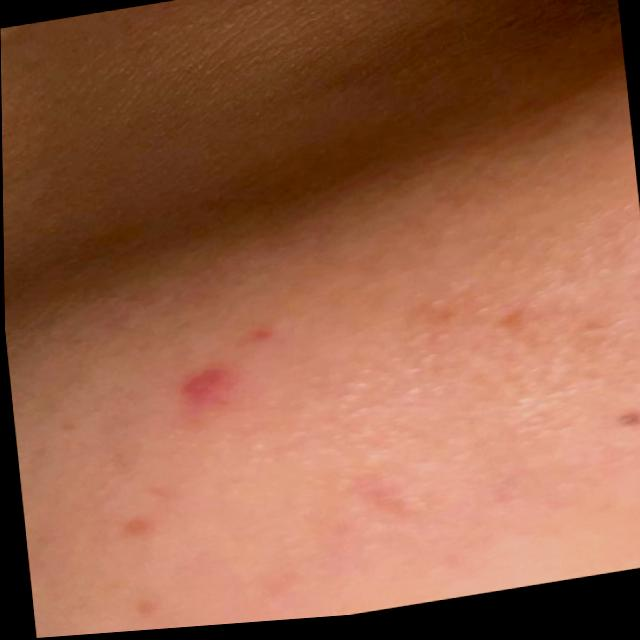papule: (144, 318, 291, 442)
